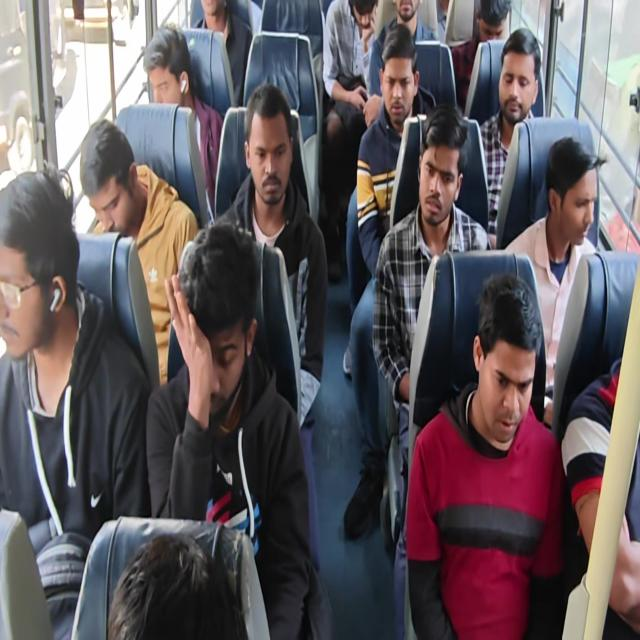person: (172, 223, 266, 427), (0, 159, 79, 350), (102, 531, 235, 640), (473, 294, 534, 448), (243, 78, 297, 206), (543, 146, 604, 251), (78, 143, 140, 229), (142, 18, 188, 106), (424, 124, 460, 213), (505, 34, 538, 122), (332, 0, 378, 52), (378, 62, 413, 122), (476, 0, 512, 53), (188, 0, 234, 29), (384, 0, 421, 34)
